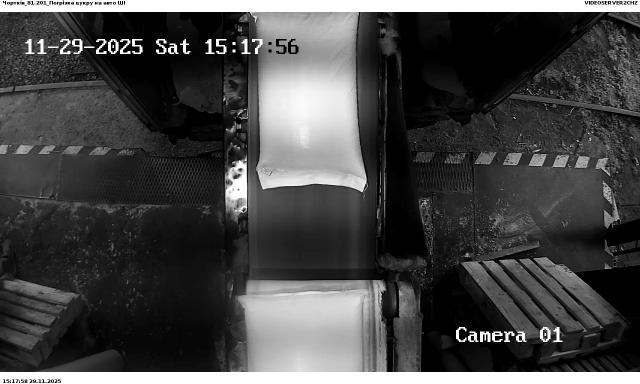bag: (250, 12, 370, 193), (236, 287, 370, 372)
